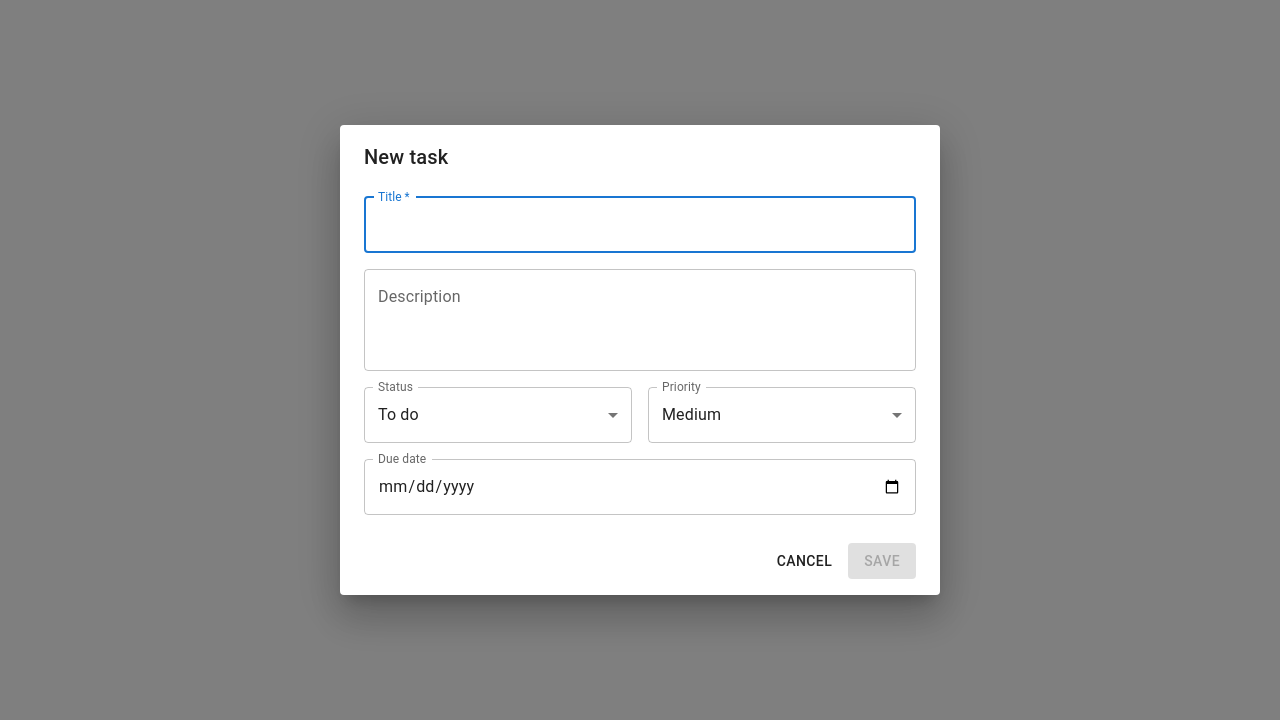
Test case: TaskDialog › shows the server error and stays open when saving fails
Type "x" into the field labelled "Title *" at coordinates (640, 225), box x1=364 y1=197 x2=916 y2=253
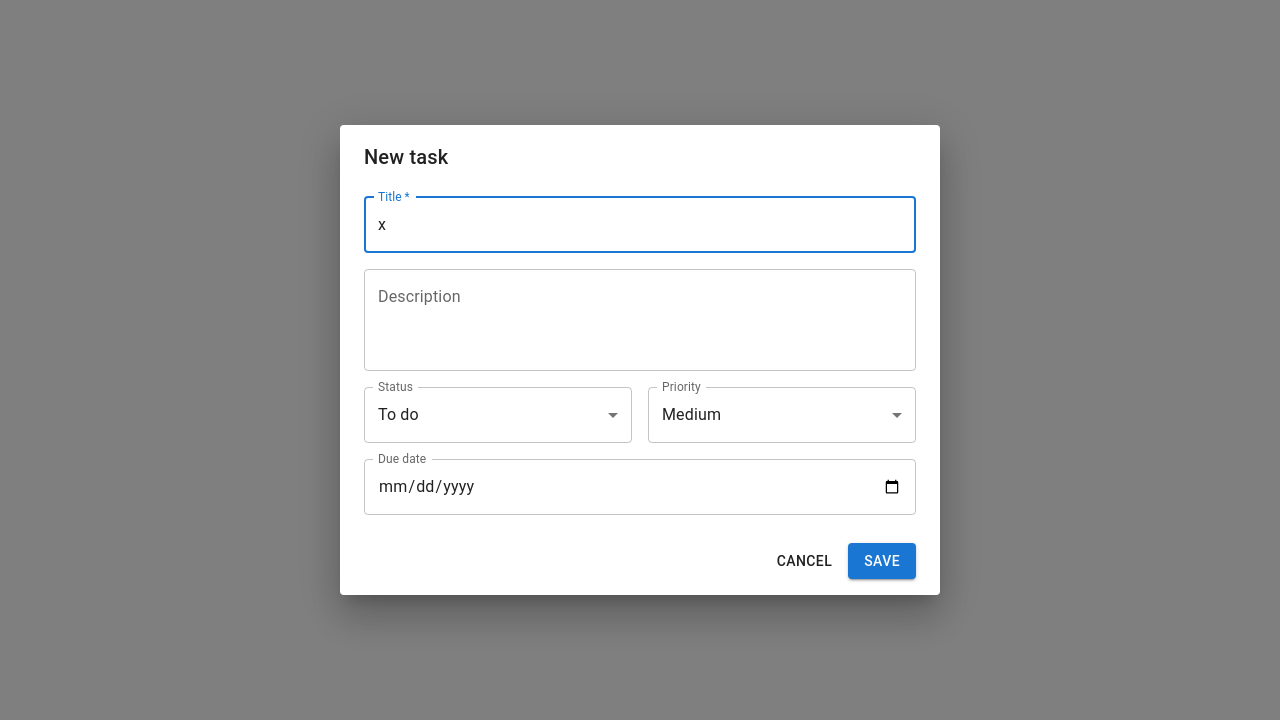
Click the button "Save" at coordinates (882, 561), box x1=848 y1=543 x2=916 y2=579
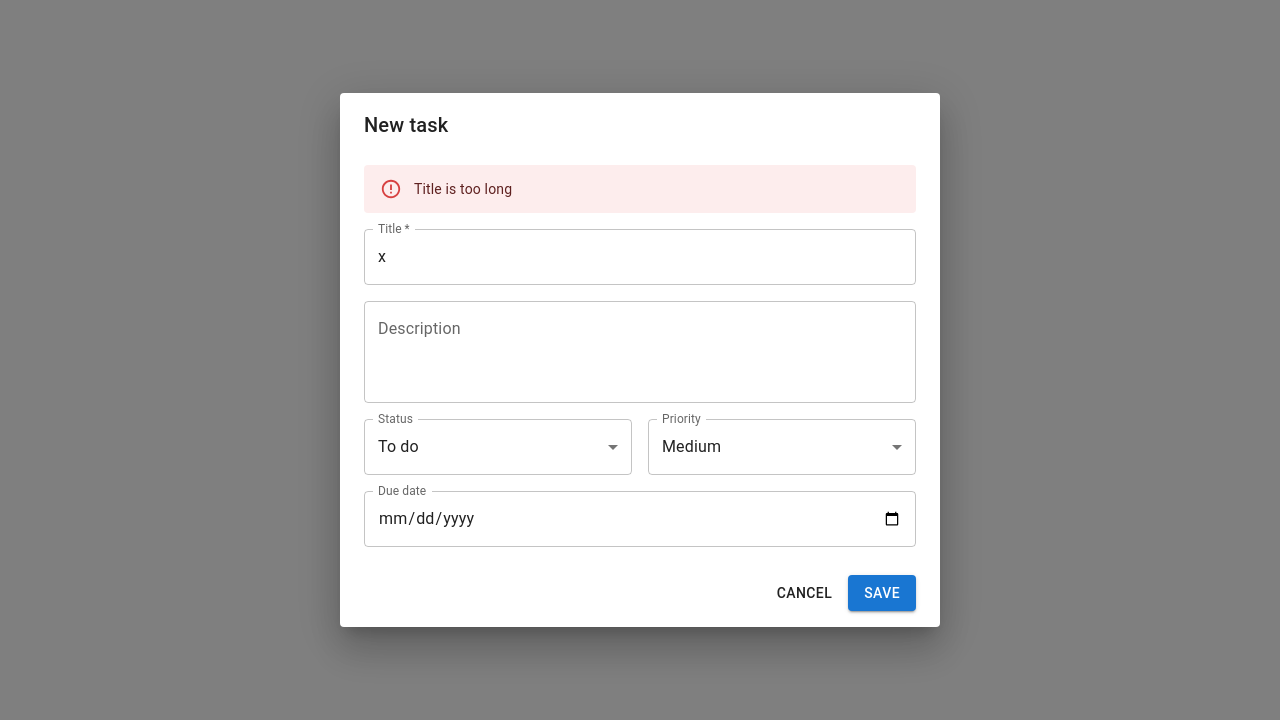
Result: the button "Save" is enabled at x1=848 y1=575 x2=916 y2=611
Result: the text "Title is too long" is shown at x1=414 y1=181 x2=512 y2=197
